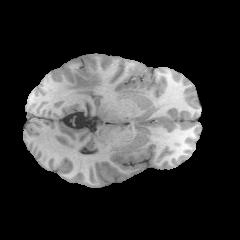glioma: (62, 73, 103, 95)
